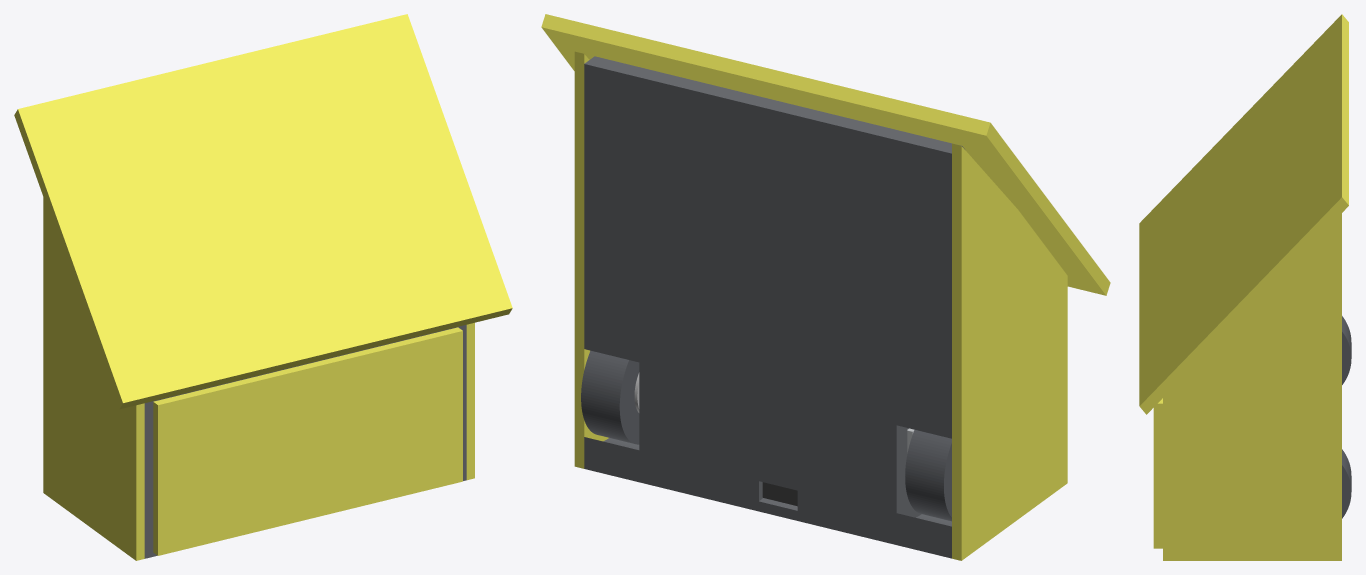
The model's file is flik.glb.
The picture shows the model from 3 angles, left to right: view 1: azimuth 30°, elevation 25°; view 2: azimuth 150°, elevation 25°; view 3: azimuth 270°, elevation 25°; orthographic projection. The views are drawn at different scales.
Visible parts, largest first — view 1: flipper, top_plate, side_panel_r, chassis, side_panel_l; view 2: chassis, side_panel_r, flipper, side_panel_l, wheel_l0, wheel_r0; view 3: side_panel_l, flipper, top_plate, wheel_l0, wheel_r0.
Part boxes in pixels (x1,y1,x2,y2): flipper: (14,14,512,409); top_plate: (153,327,462,555); side_panel_r: (43,197,144,560); chassis: (144,325,466,558); side_panel_l: (466,322,474,480); chassis: (584,56,964,558); side_panel_r: (952,143,1067,560); flipper: (541,14,1110,295); side_panel_l: (574,51,608,468); wheel_l0: (581,350,639,444); wheel_r0: (905,430,951,521); side_panel_l: (1163,213,1341,560); flipper: (1139,14,1348,414); top_plate: (1153,398,1162,548); wheel_l0: (1342,449,1351,518); wheel_r0: (1342,316,1351,384).
Bounding box in the file's own units: 92 × 88 × 45.
